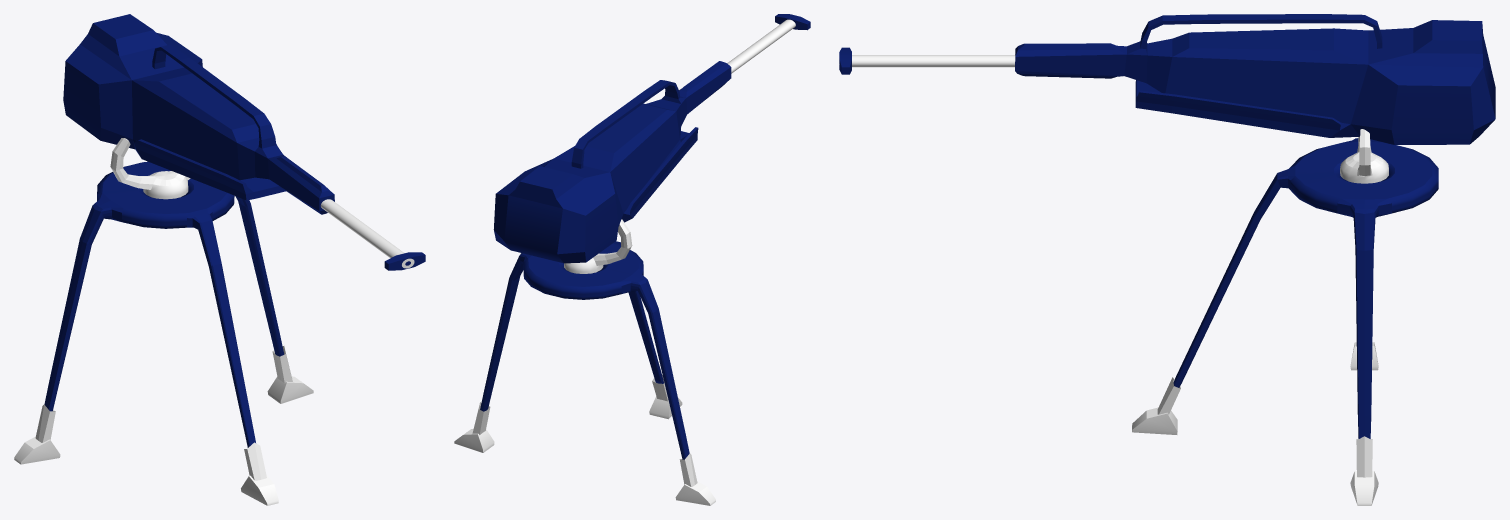
Rendered from Torreta Francotirador.fbx.
3 renders of one model, left to right at view 1: azimuth 30°, elevation 25°; view 2: azimuth 150°, elevation 25°; view 3: azimuth 270°, elevation 25°, orthographic. The views are drawn at different scales.
Parts seen in each view (by area): view 1: Cuerpo, Tripode; view 2: Cuerpo, Tripode; view 3: Cuerpo, Tripode.
Part boxes in pixels (x1,y1,x2,y2): Cuerpo: (63,14,425,270); Tripode: (14,138,313,505); Cuerpo: (493,14,810,263); Tripode: (454,219,715,505); Cuerpo: (839,14,1495,144); Tripode: (1132,129,1438,505).
Bounding box in the file's own units: 40.05 × 49.74 × 71.7.
